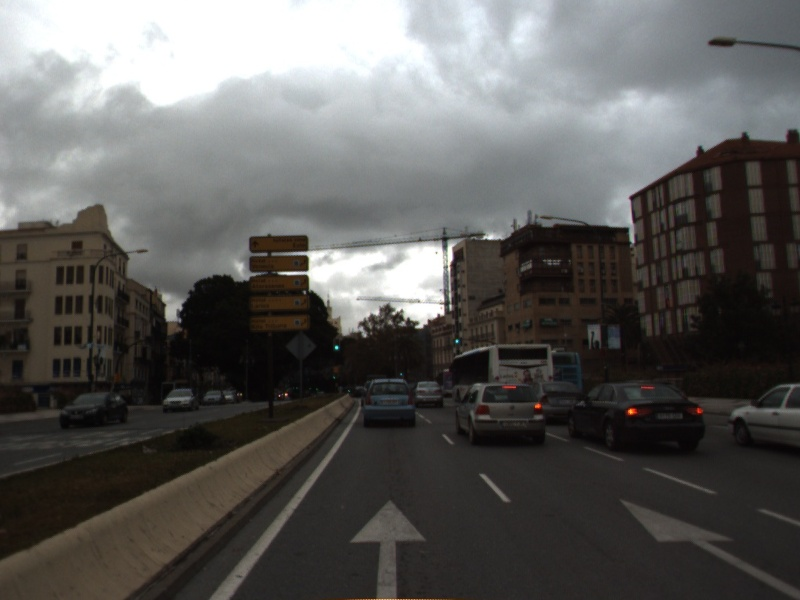STRAIGHT: (616, 495, 800, 599), (346, 495, 434, 600)
